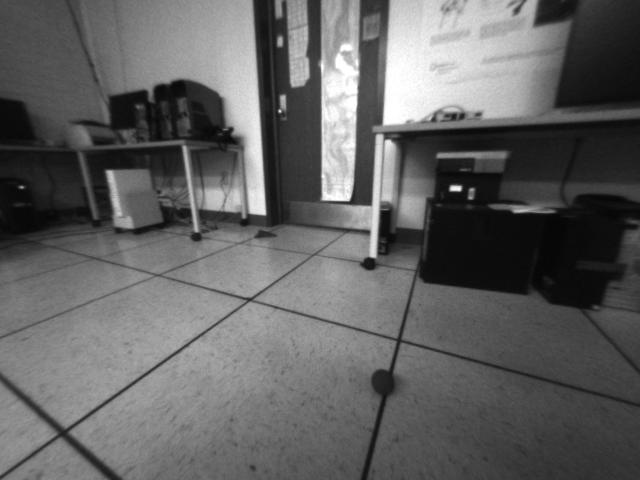dogtoy: (364, 359, 406, 400)
